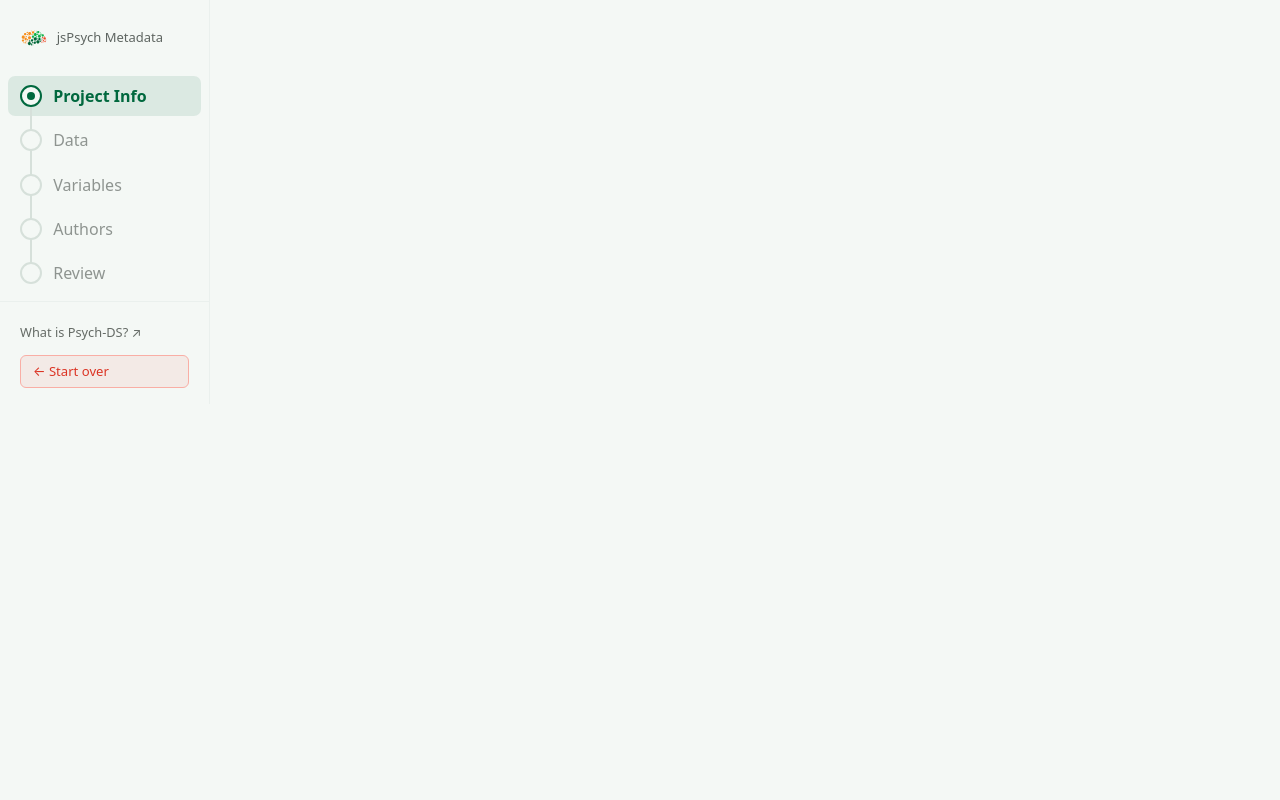
Scenario: Sidebar › start over dialog › '← Start over' button opens the confirmation dialog
Check: the text "Start over?" is not shown
Click the button "← Start over": (104, 371) x1=20 y1=355 x2=189 y2=388
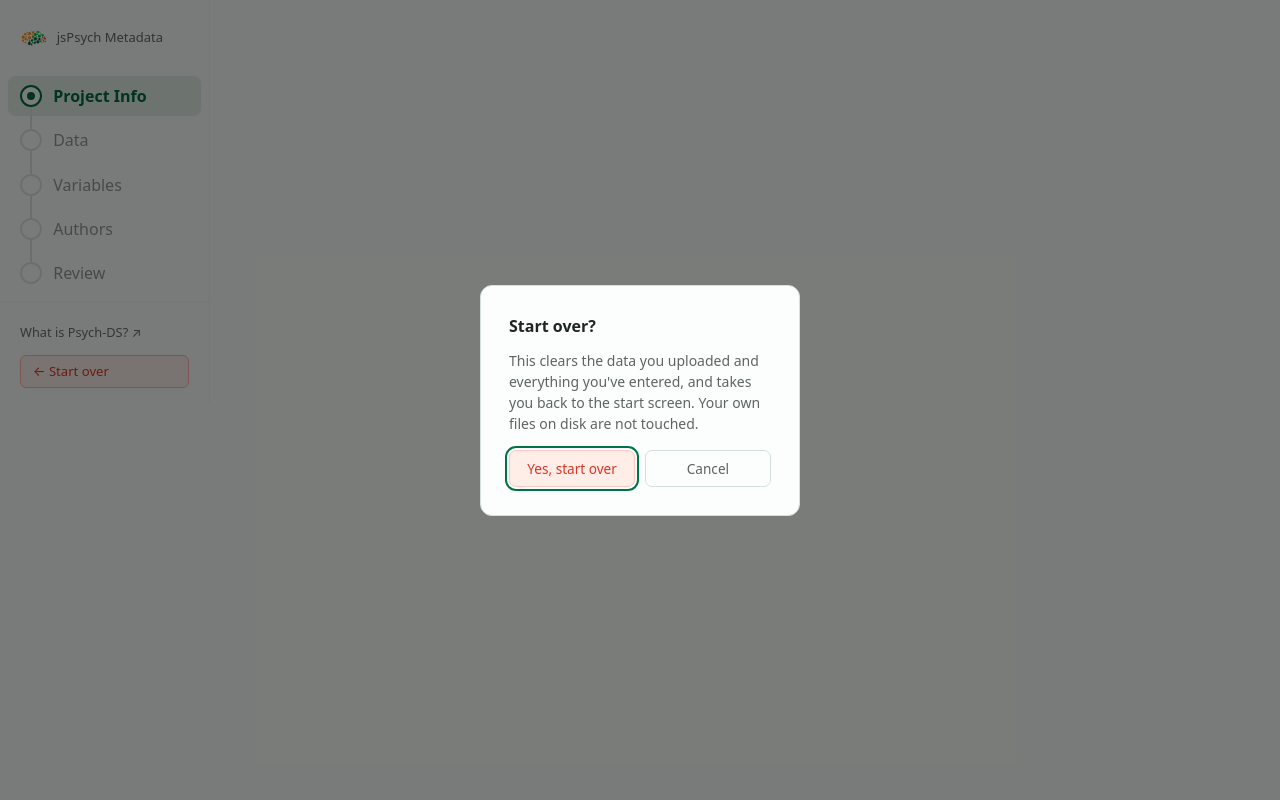
Check: the heading "Start over?" is shown, box x1=509 y1=314 x2=596 y2=336
